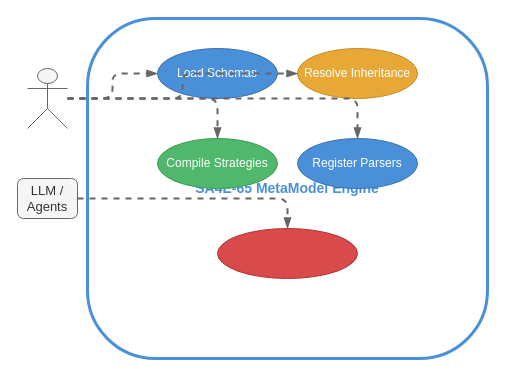
Image size: 506x377. Some labels were removed from this diagram. The centre of each missing label's shape, as x and y in pixels:
Developer: the point at 47,98
Extend with New Schema: the point at 287,253
